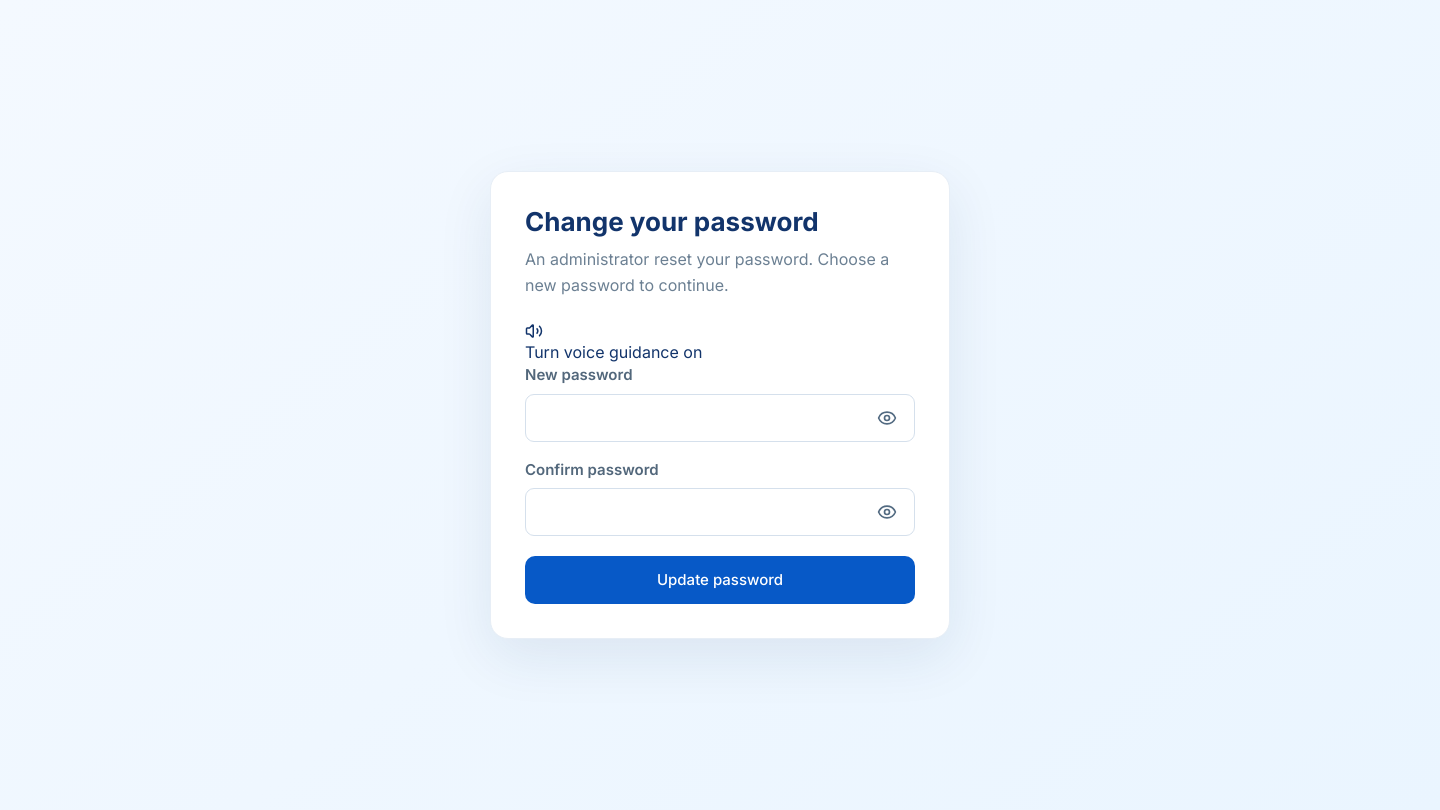
Scenario: forced password change › omits current password and independently shows or hides both new password fields
Click the 1st button named "Show password" at point(887, 418), box [863, 395, 911, 441]
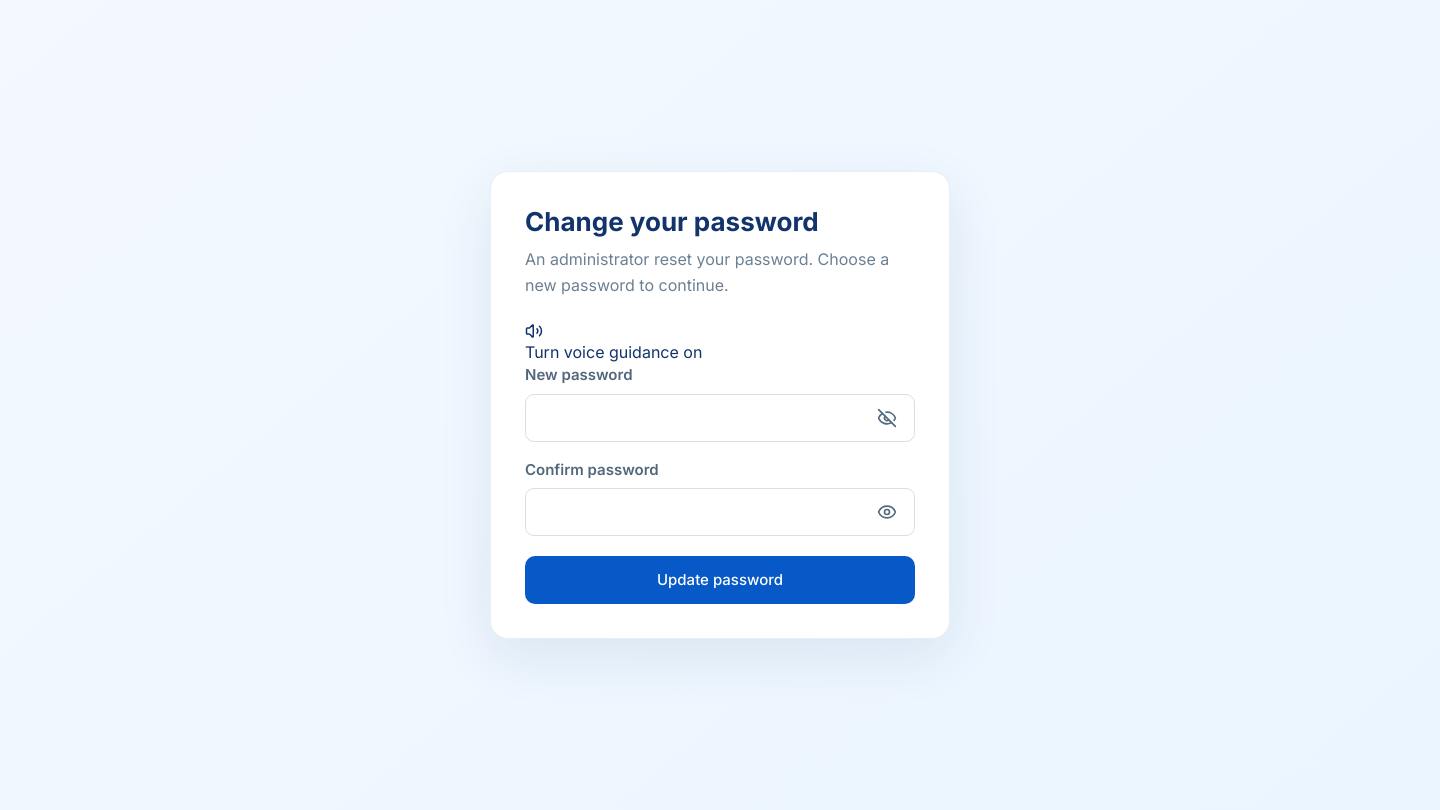
Click the button named "Show password" at point(887, 512), box [863, 489, 911, 535]
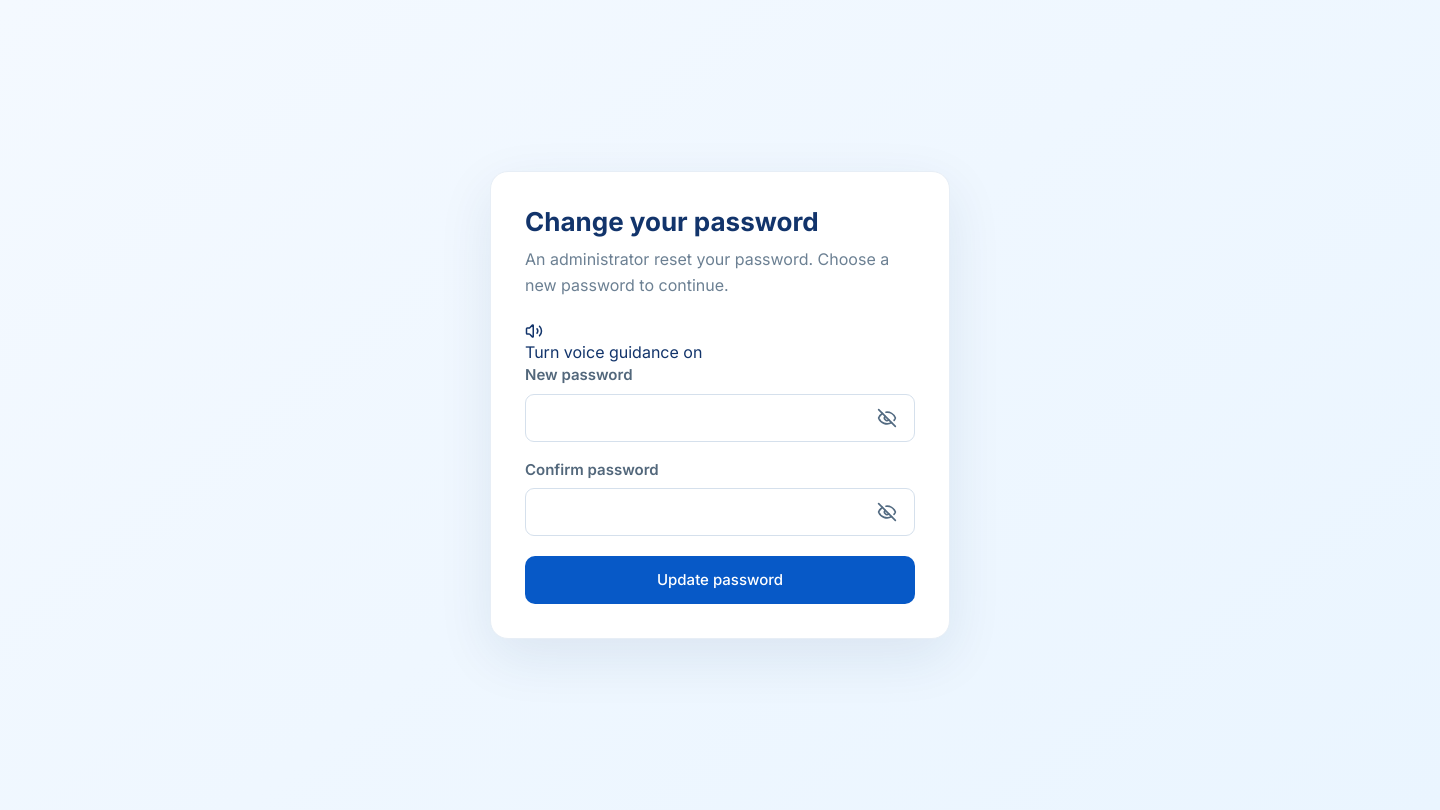
Click the 1st button named "Hide password" at point(887, 418), box [863, 395, 911, 441]
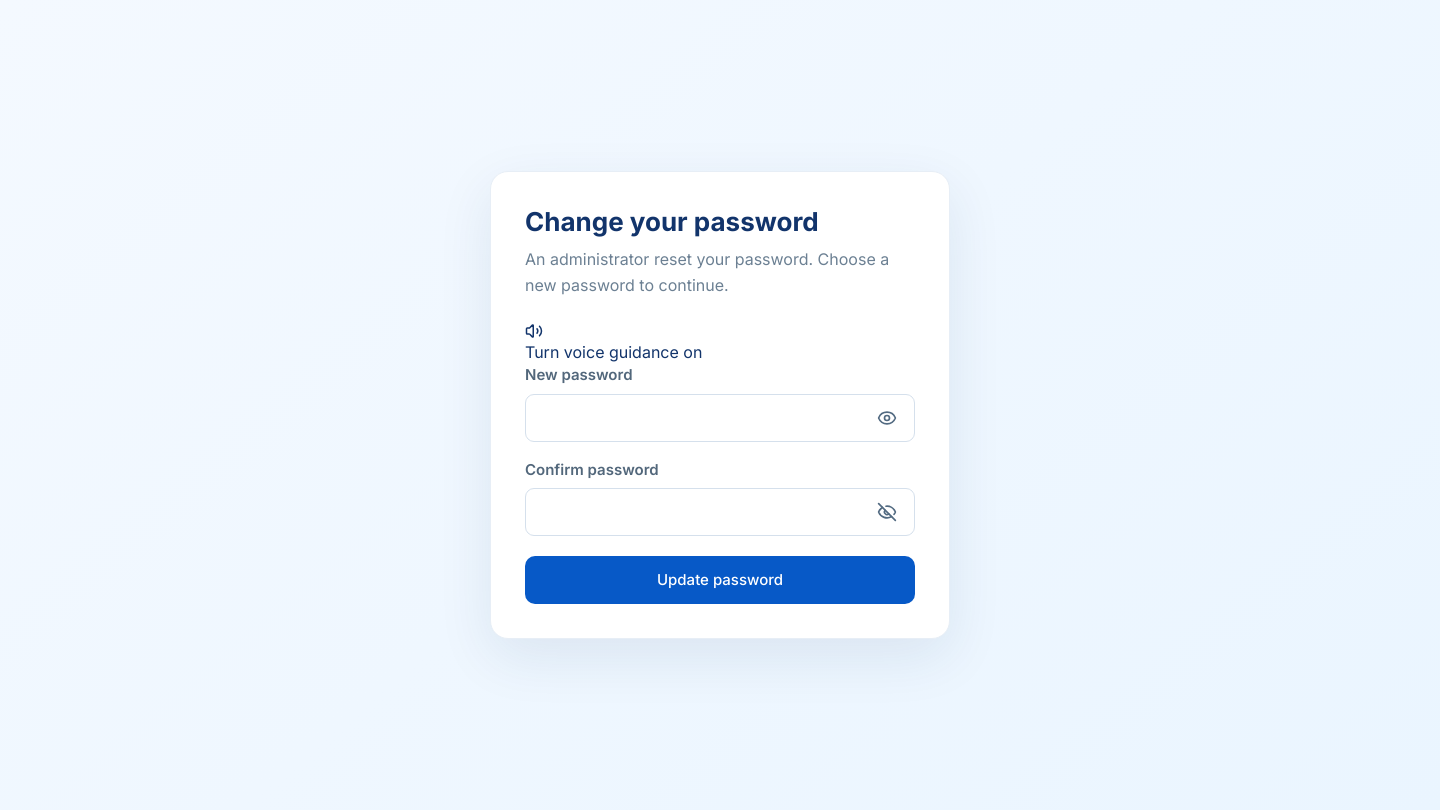
Type "NewStrongPass1" into the password field labelled "New password" at point(720, 418), box [525, 394, 915, 442]
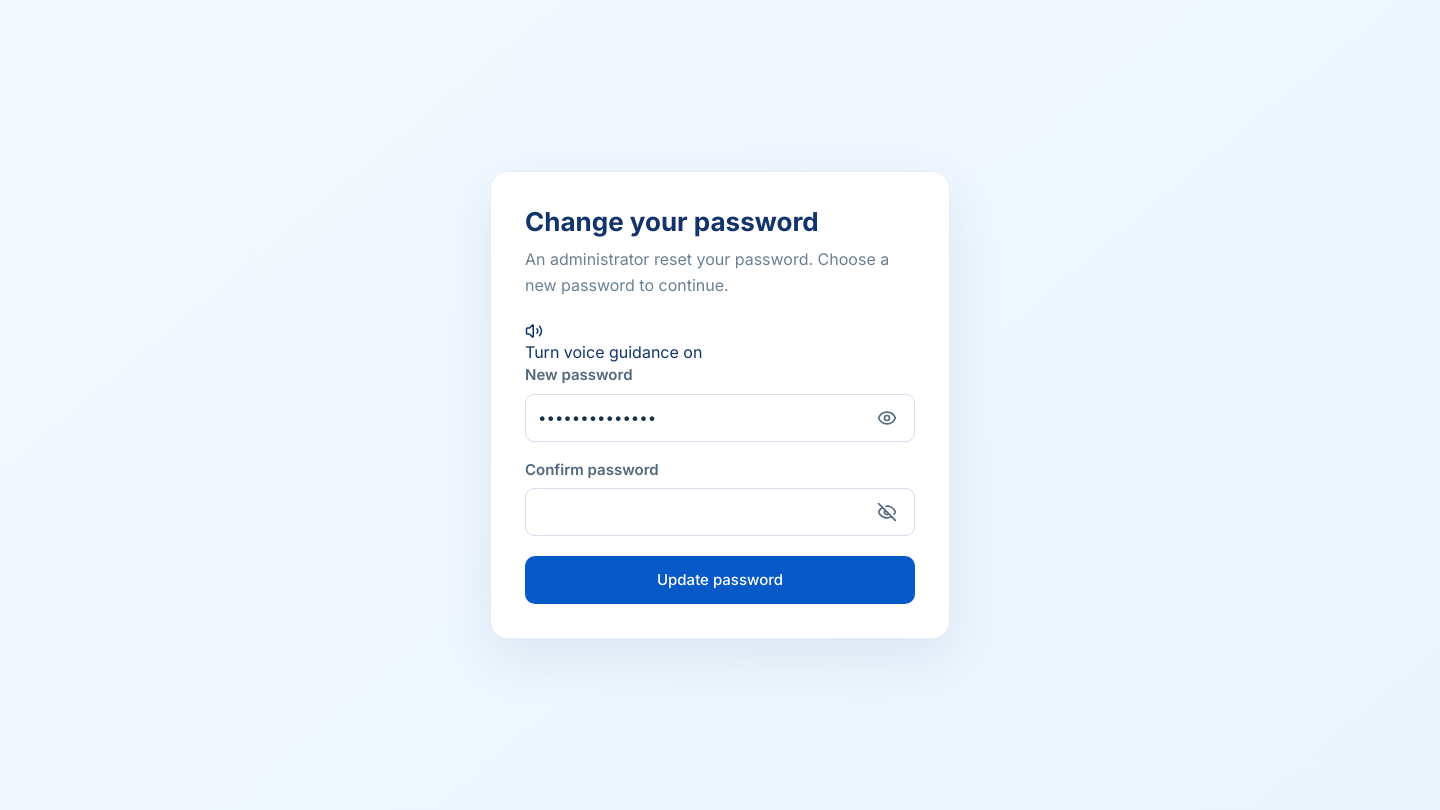
Type "NewStrongPass1" into the field labelled "Confirm password" at point(720, 512), box [525, 488, 915, 536]
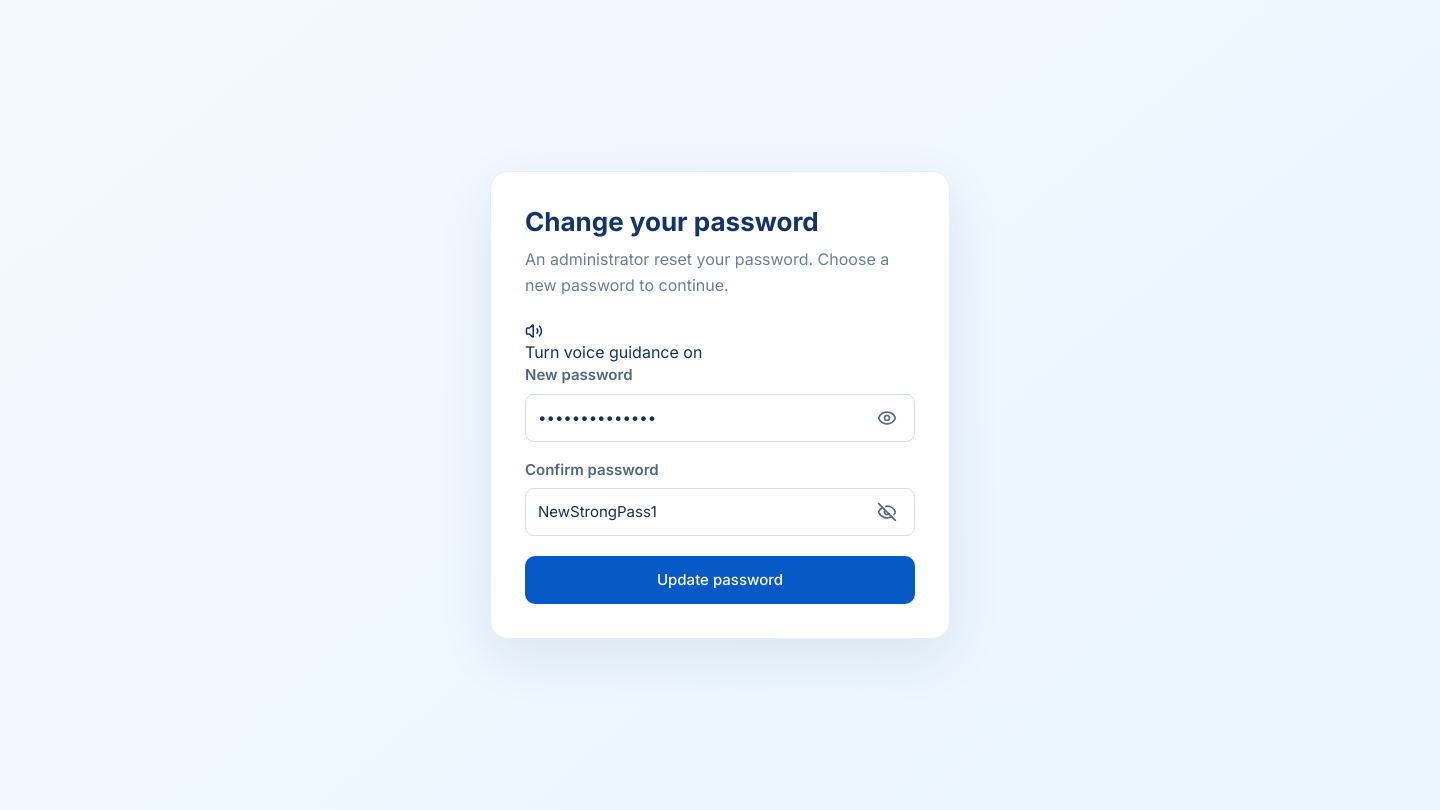
Click the button "Update password" at point(720, 580), box [525, 556, 915, 604]
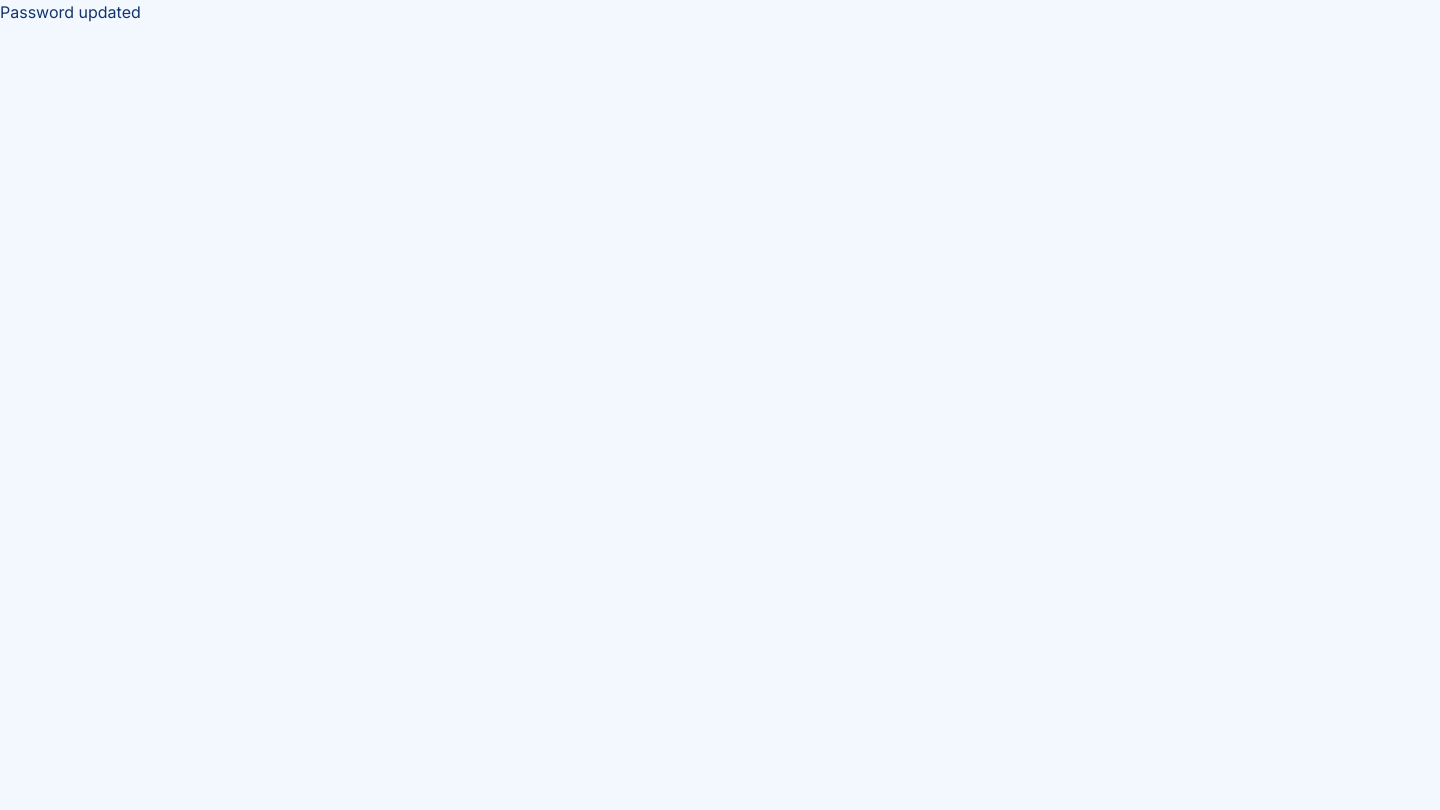
Expected: the text "Password updated" is shown, [0, 2, 141, 22]
